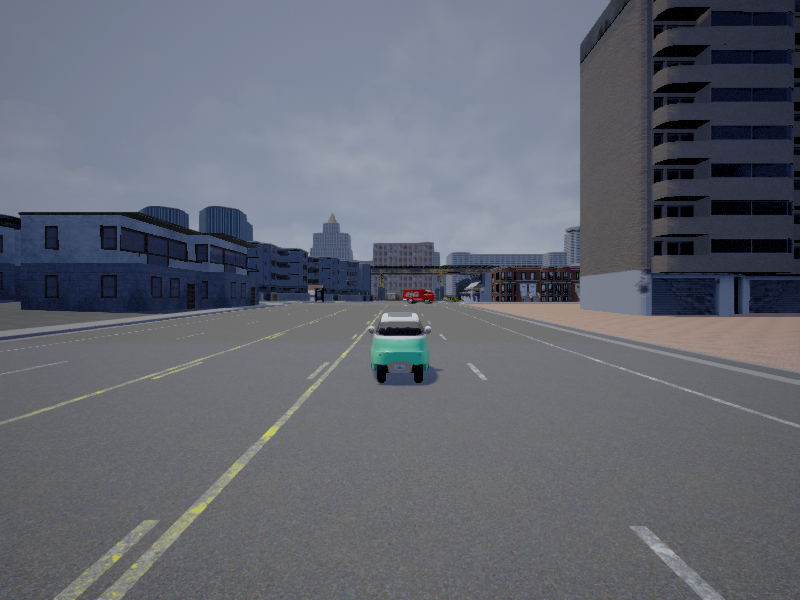Benign: (368, 313, 431, 385), (403, 288, 436, 305)
